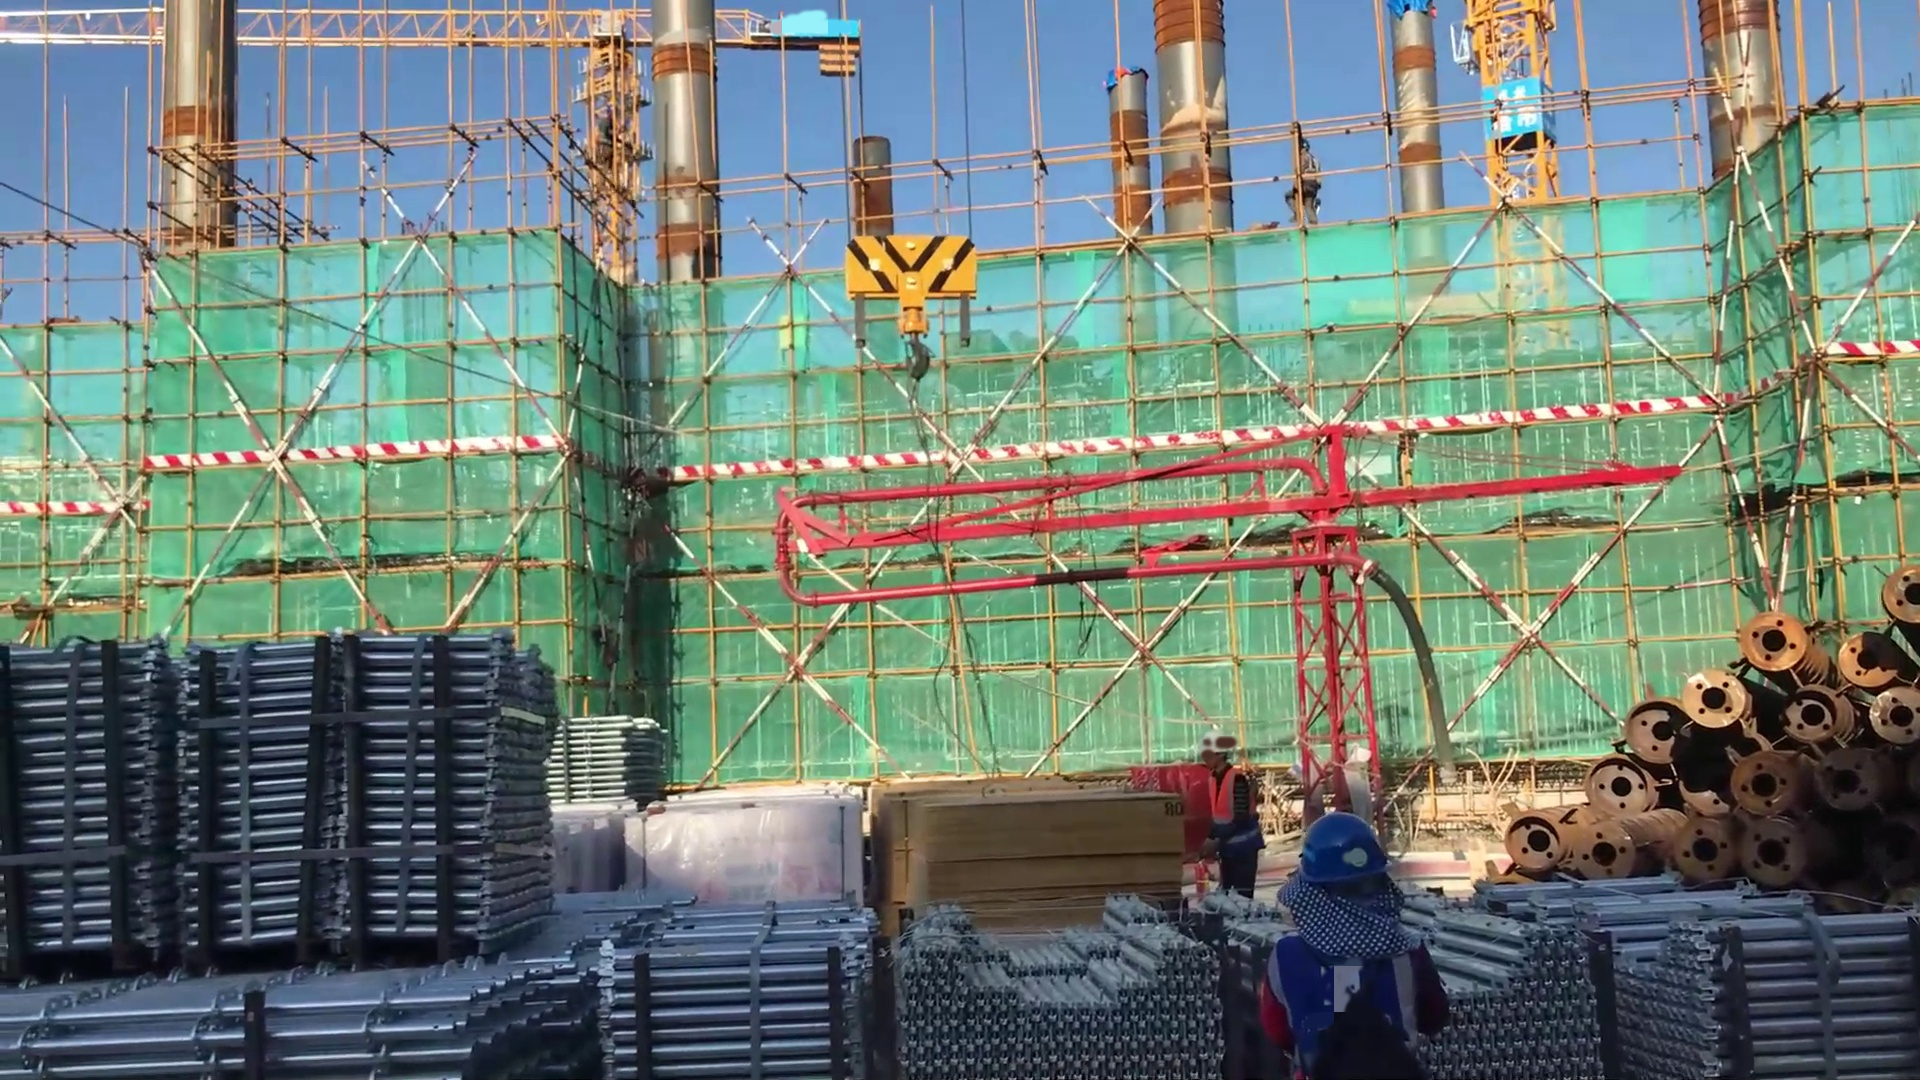board: (873, 784, 1192, 927)
helmet: (1296, 808, 1397, 882), (1195, 726, 1242, 752)
hook: (830, 214, 988, 430)
person: (1252, 809, 1451, 1075), (1200, 734, 1271, 906), (1278, 123, 1332, 237)
scaffold: (1, 614, 568, 972), (1, 899, 883, 1078), (1411, 889, 1909, 1080), (867, 905, 1227, 1080)
slogan: (1491, 83, 1556, 143)
vest: (1269, 933, 1421, 1072), (1207, 773, 1266, 856), (1304, 154, 1325, 191)
